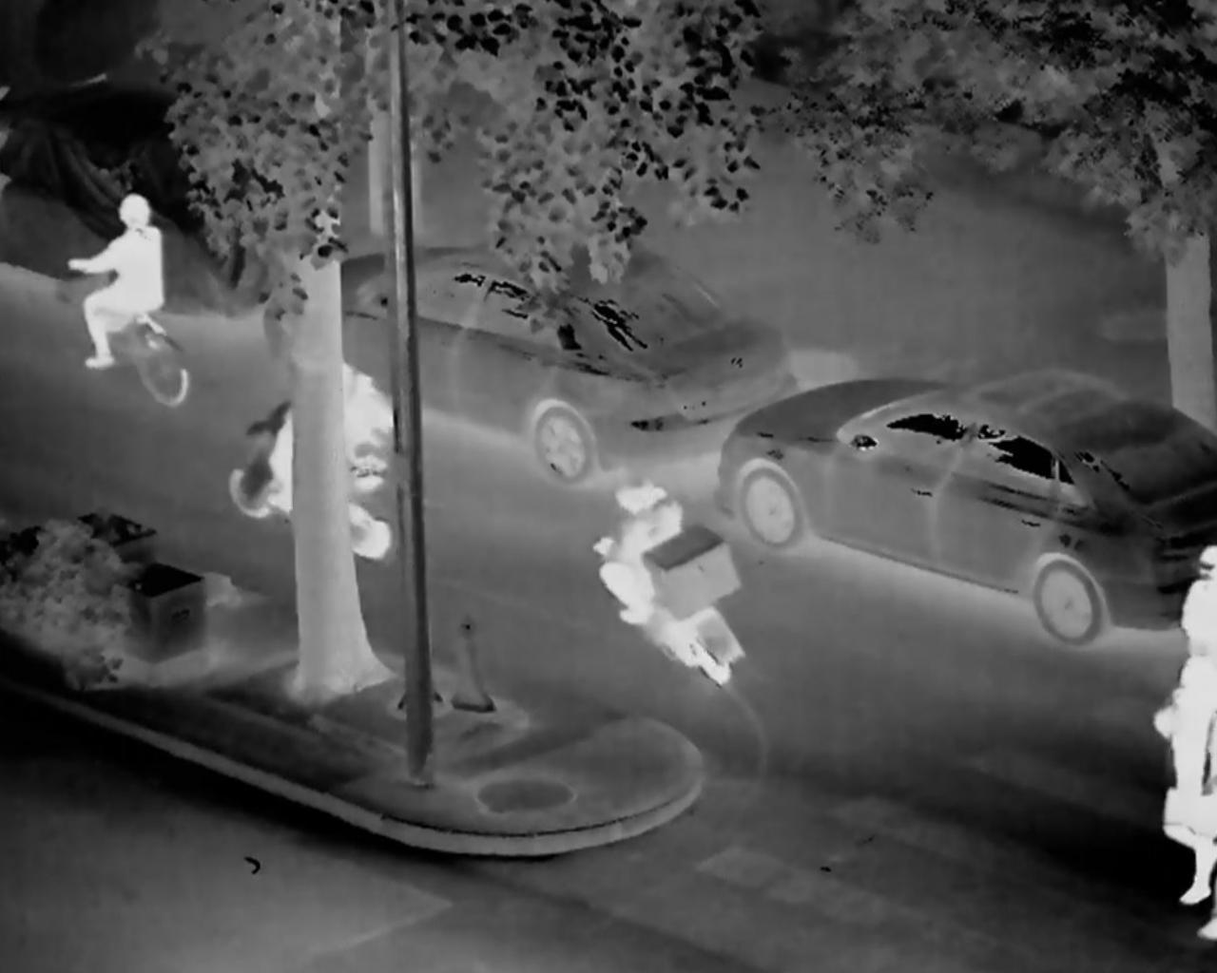person: (245, 342, 443, 575), (1100, 550, 1217, 920), (59, 166, 200, 379), (591, 472, 705, 650)
